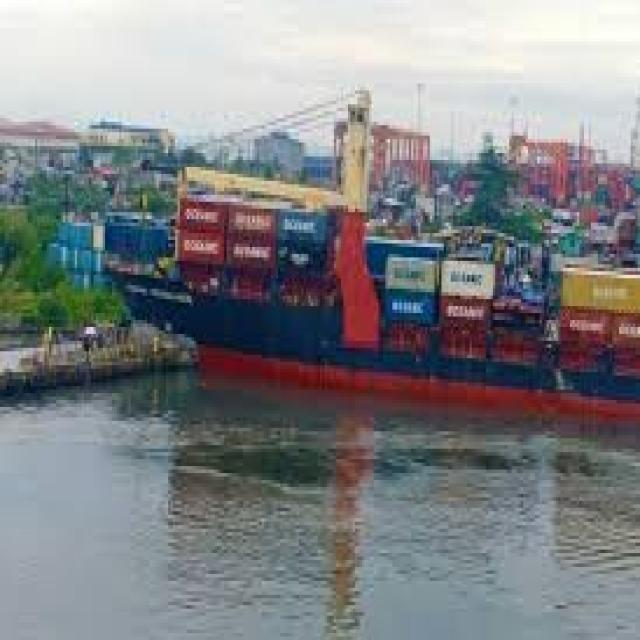cargoship: (112, 154, 640, 422)
